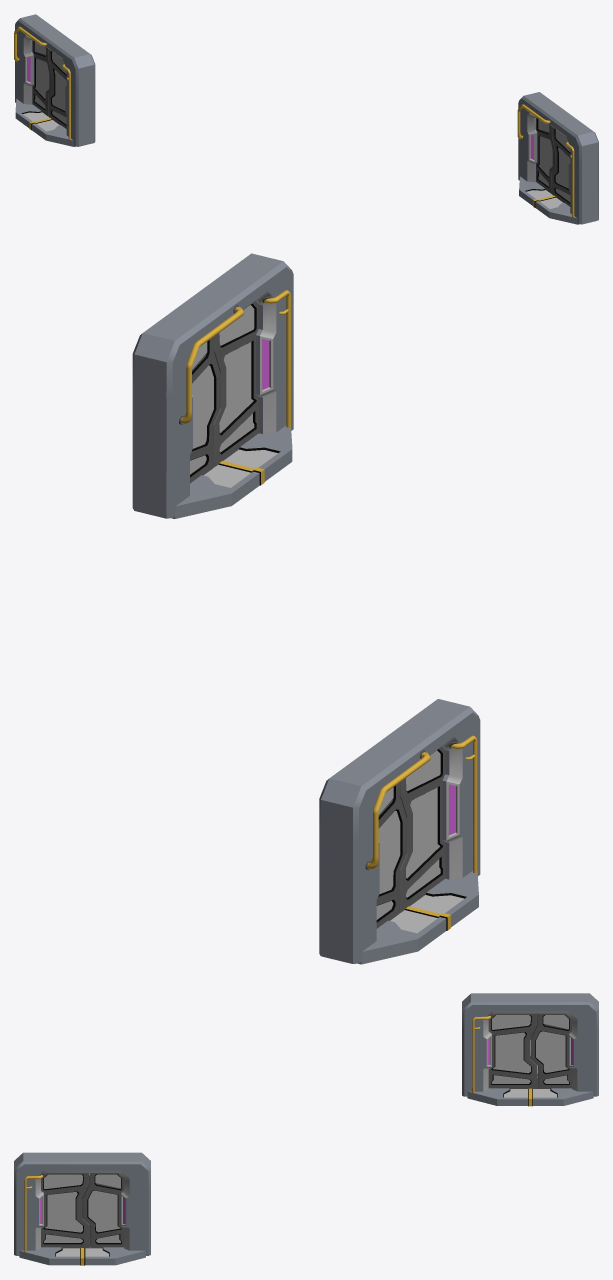
The model's file is Doors.fbx.
3 views of the same model, one above another, from view 1: azimuth 30°, elevation 25°; view 2: azimuth 150°, elevation 25°; view 3: azimuth 270°, elevation 25° (orthographic). The views are drawn at different scales.
Visible parts, largest first — view 1: Base (×2), Base5 (×2), Left (×2), Right (×2); view 2: Base (×2), Right (×2), Base5 (×2), Left (×2), polySurface7 (×2); view 3: Base (×2), Right (×2), Left (×2), Base5 (×2).
Part boxes in pixels (left/top/right/bottom): Base (×2): left=15, top=14, right=598, bottom=224; Base5 (×2): left=15, top=99, right=578, bottom=224; Left (×2): left=32, top=39, right=555, bottom=193; Right (×2): left=48, top=49, right=570, bottom=206; Base (×2): left=132, top=253, right=480, bottom=963; Right (×2): left=213, top=301, right=445, bottom=912; Base5 (×2): left=172, top=425, right=478, bottom=964; Left (×2): left=190, top=337, right=406, bottom=928; polySurface7 (×2): left=179, top=305, right=430, bottom=870; Base (×2): left=14, top=993, right=598, bottom=1255; Right (×2): left=41, top=1013, right=537, bottom=1248; Left (×2): left=82, top=1013, right=571, bottom=1248; Base5 (×2): left=19, top=1073, right=593, bottom=1265.
Size of the model in its own units: 175 by 42.05 by 233.
